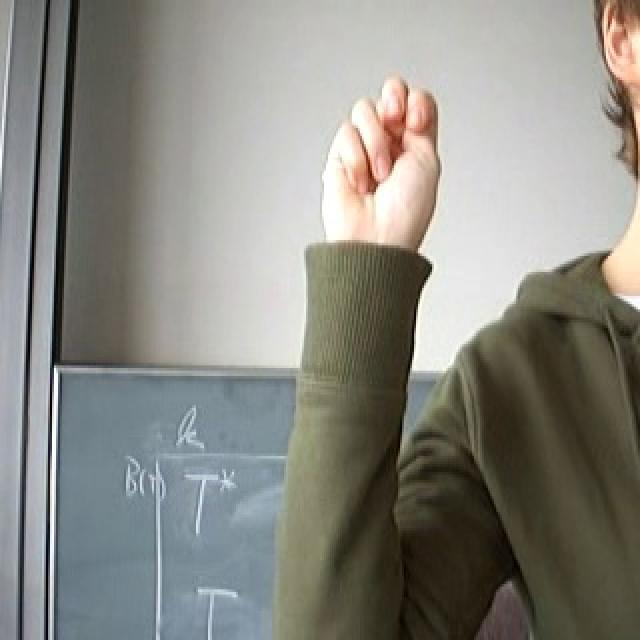N: (310, 64, 463, 291)
